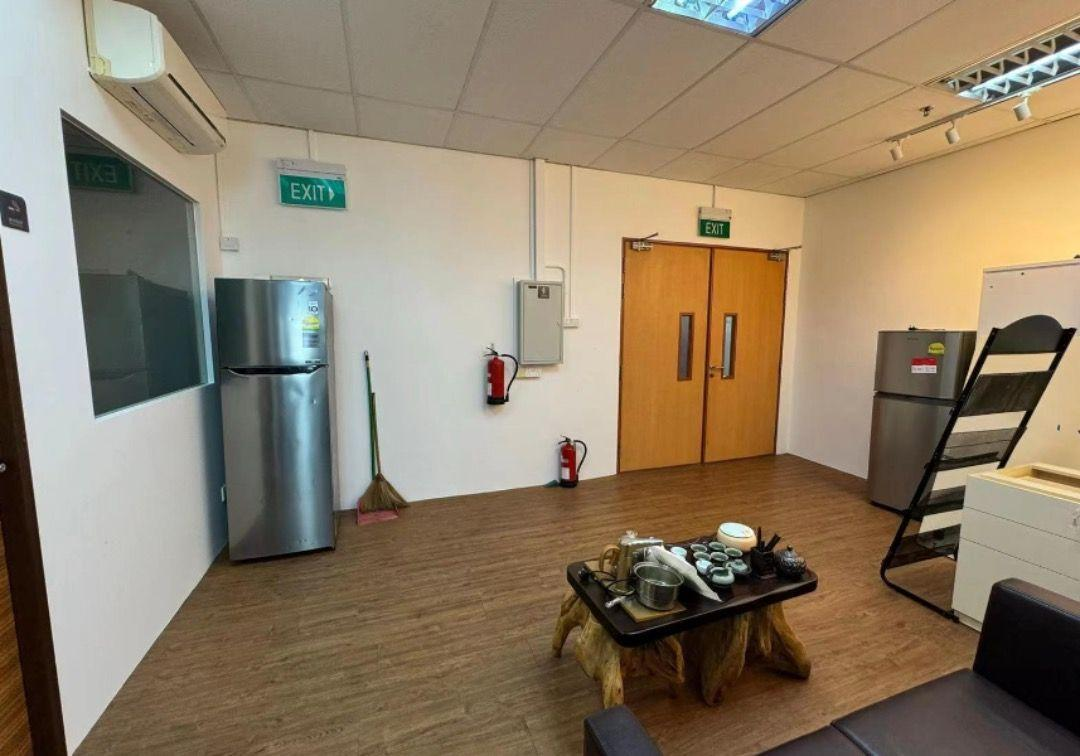exit: (618, 239, 791, 478)
unlit_exit_sign: (277, 172, 347, 213), (697, 217, 730, 237)
